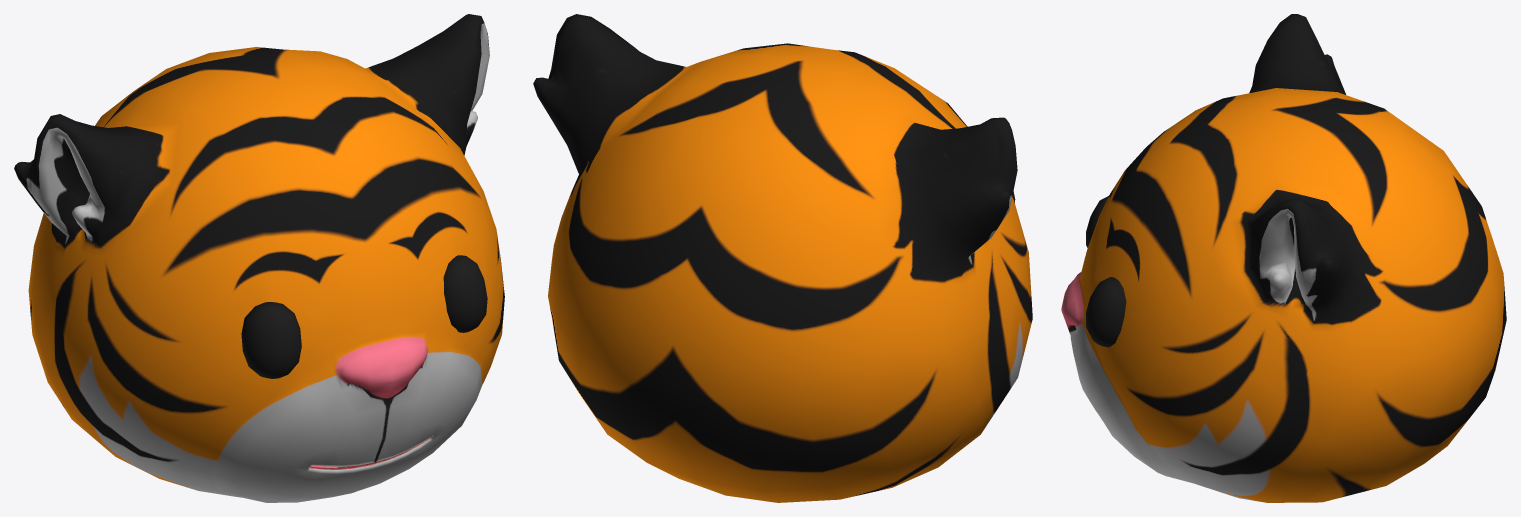
The model's file is TigerHead.FBX.
3 renders of one model, left to right at view 1: azimuth 30°, elevation 25°; view 2: azimuth 150°, elevation 25°; view 3: azimuth 270°, elevation 25°, orthographic. The views are drawn at different scales.
Visible parts, largest first — view 1: TigerHead; view 2: TigerHead; view 3: TigerHead.
Boxes of the visible parts, x1,y1,x2,y2 form: TigerHead: (14,14,504,502); TigerHead: (533,14,1032,502); TigerHead: (1061,14,1506,502).
Bounding box in the file's own units: 47.68 × 39.04 × 42.99.
Materials: 4 (4 with a texture image).
